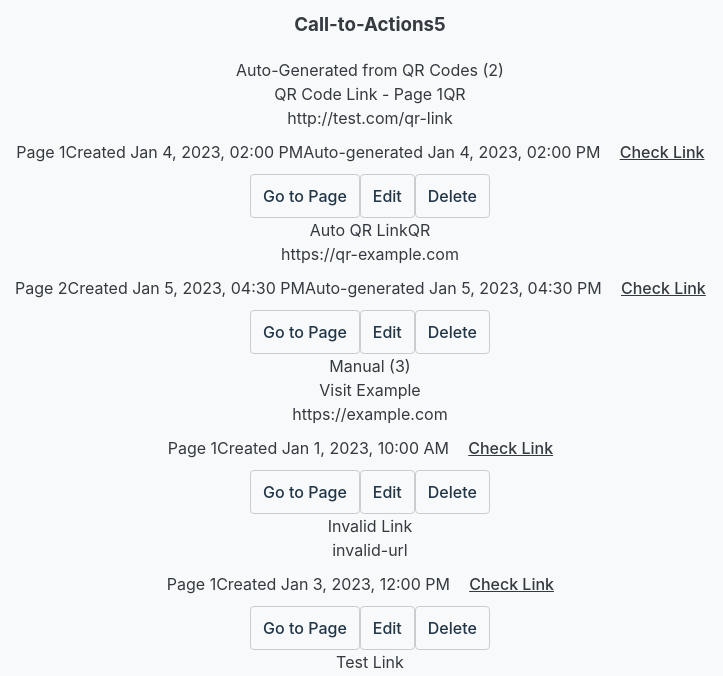
Test case: CTAList › shows invalid status for malformed URLs
Click the button "Check Link" next to "Jan 3, 2023, 12:00 PM" at (512, 584), box 450,562 -> 573,606
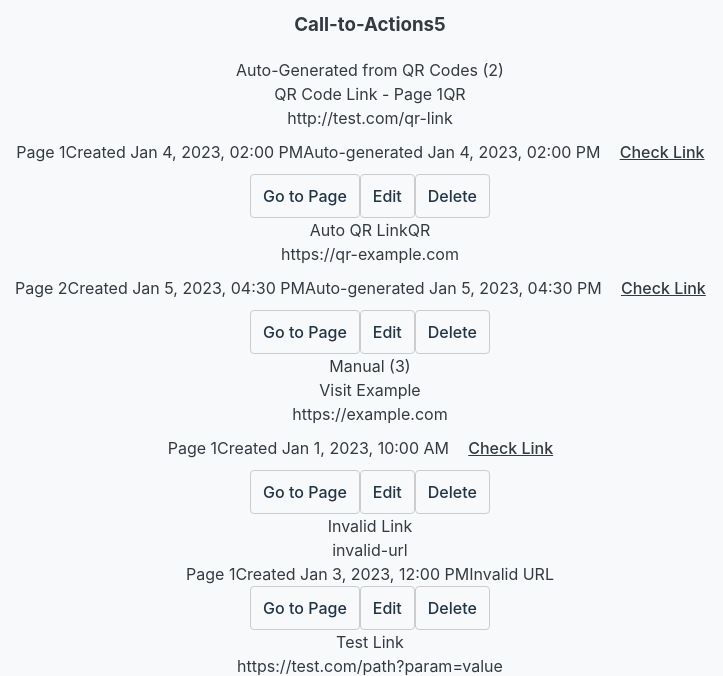
Check: the text "Invalid URL" is shown, box 469,564 -> 554,584
